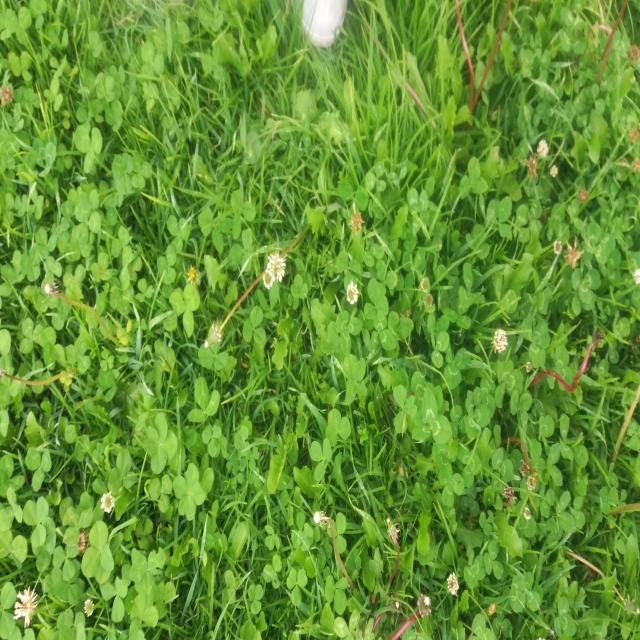Four Leaf Clover: (343, 353, 367, 404)
